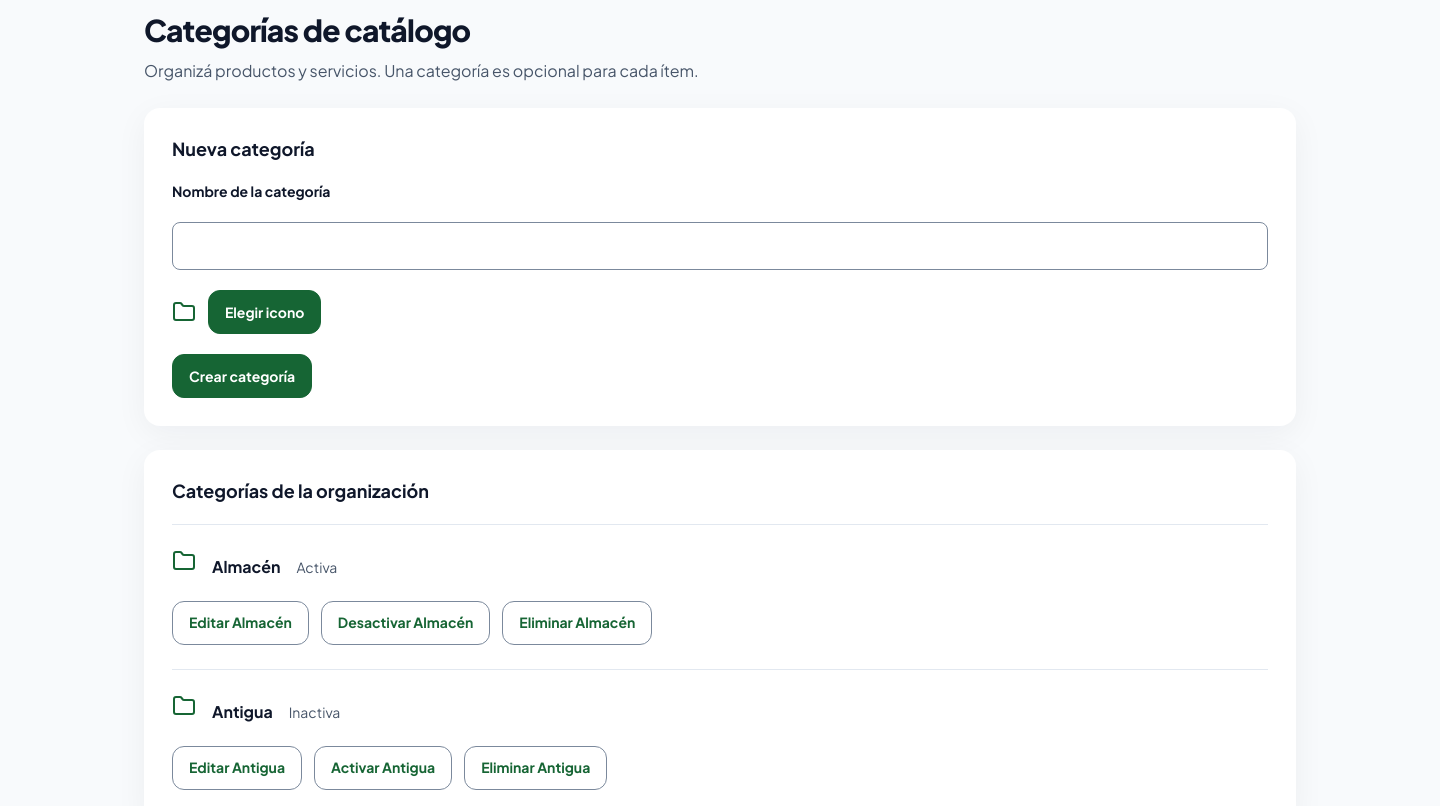
Scenario: explains an offline exposure block and offers deactivation
Click the button "Eliminar Almacén" at (577, 623), box [502,601,652,645]
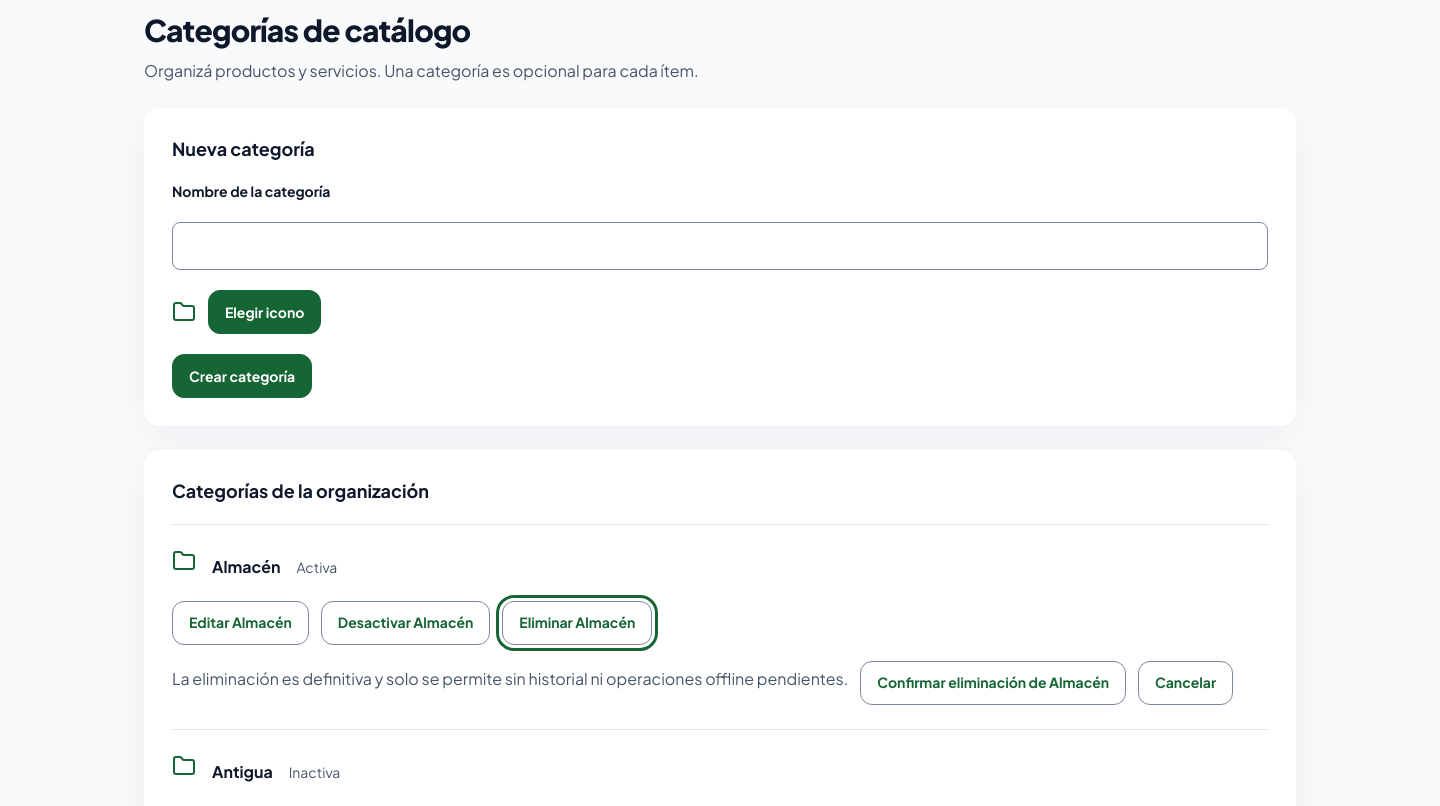
Click the button "Confirmar eliminación de Almacén" at (993, 683), box [860,661,1126,705]
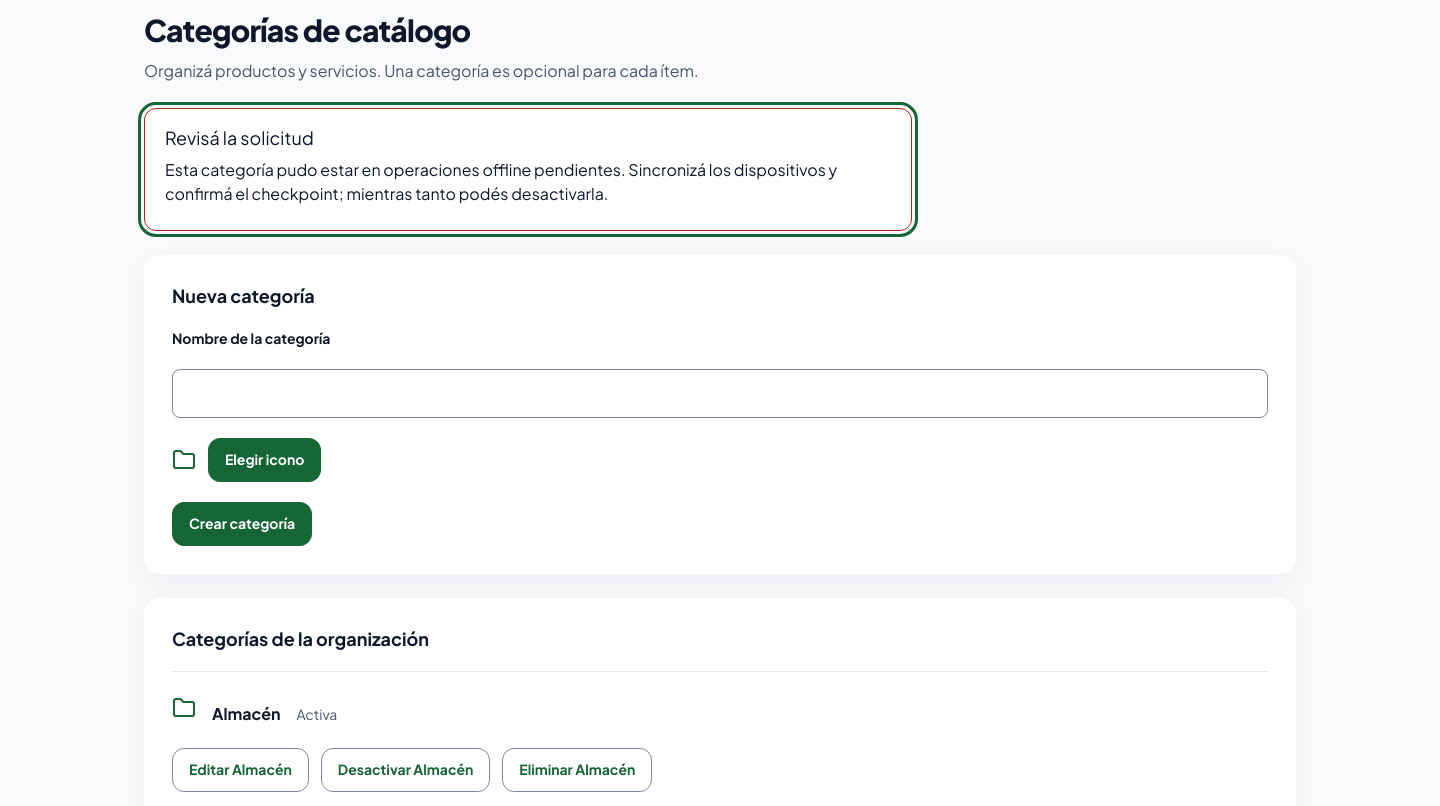
Result: the text "Sincronizá los dispositivos y confirmá el checkpoint" is shown at [165,159,837,204]
